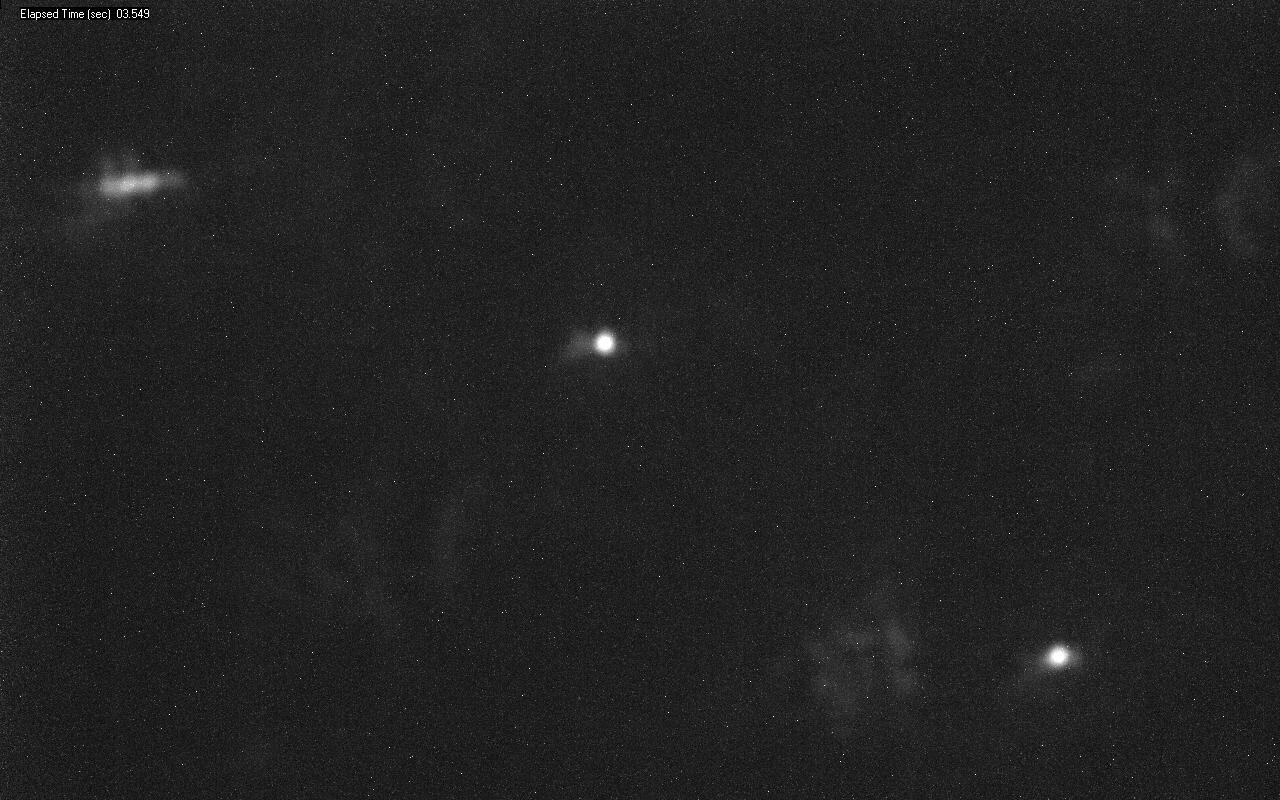Bead: (1048, 646, 1069, 666), (595, 332, 614, 352)
